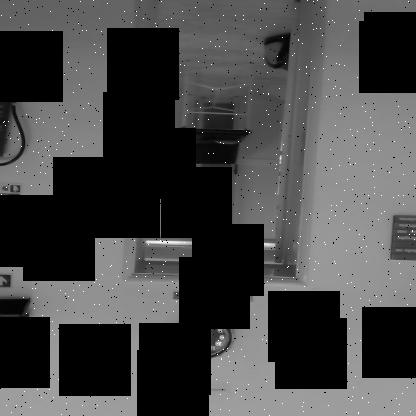Porte: (123, 1, 328, 285)
